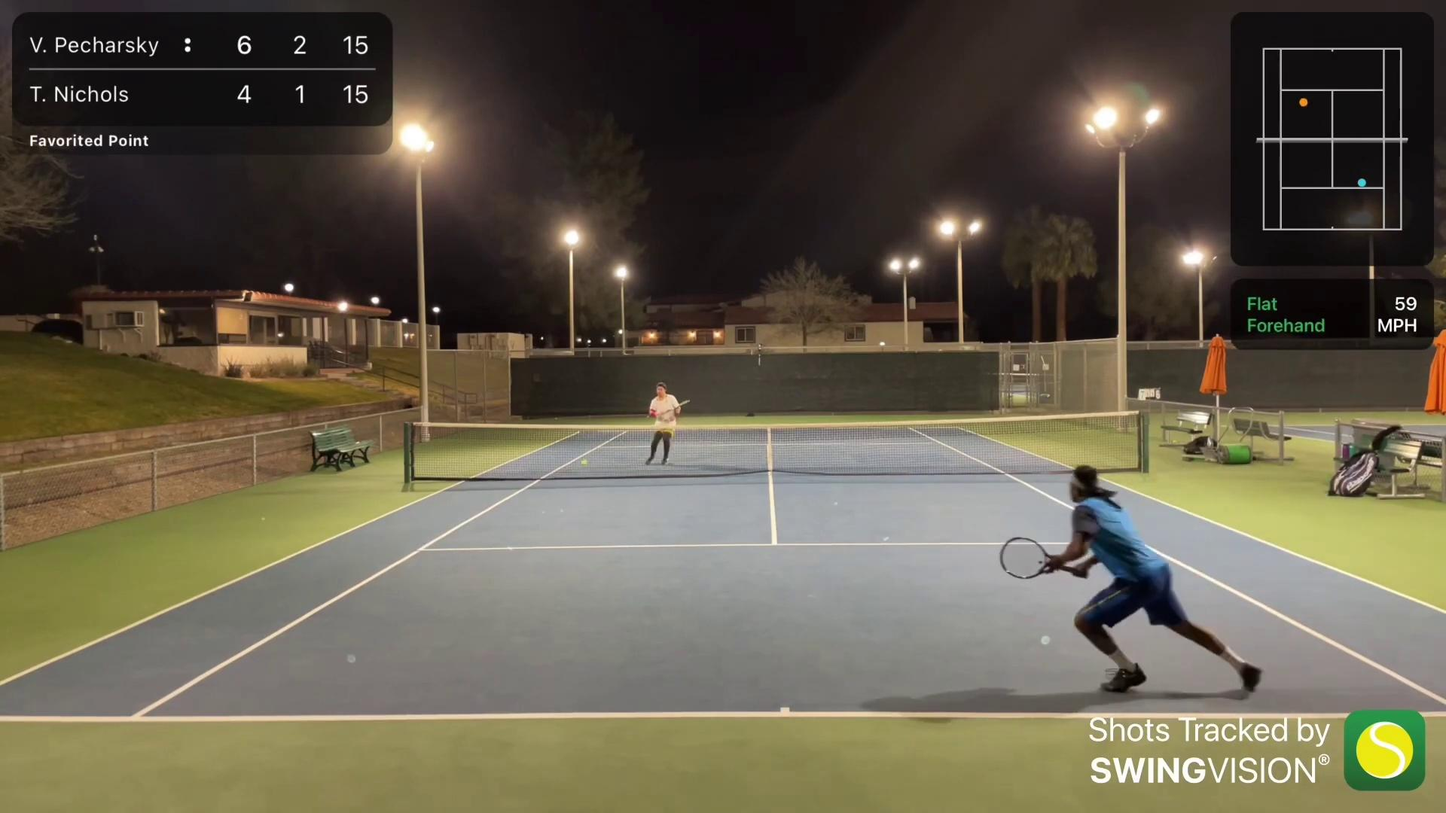ball: (576, 455, 590, 469)
